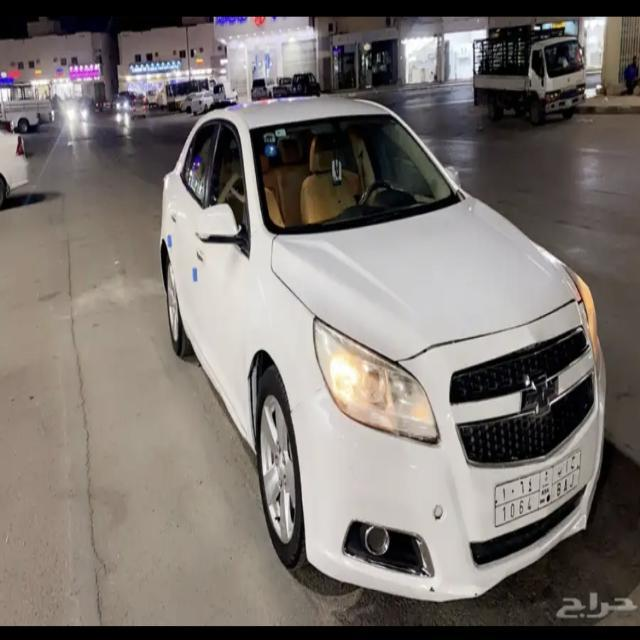license_plate: (494, 451, 586, 532)
